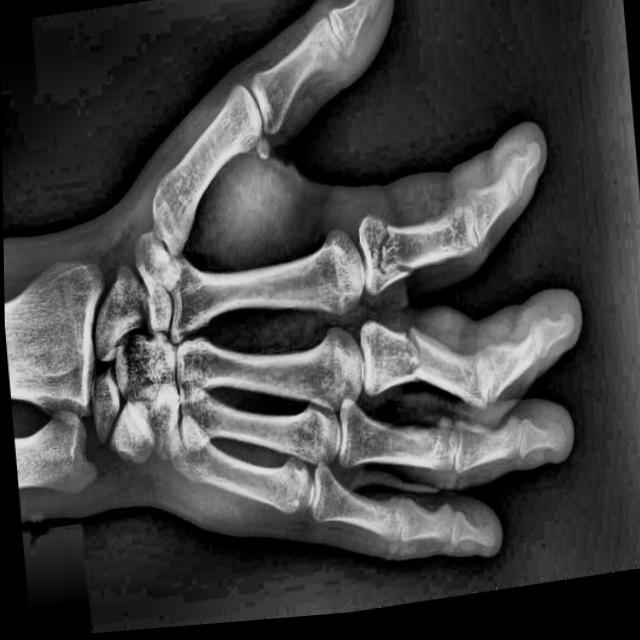fracture: (371, 223, 414, 290), (397, 326, 422, 391)
